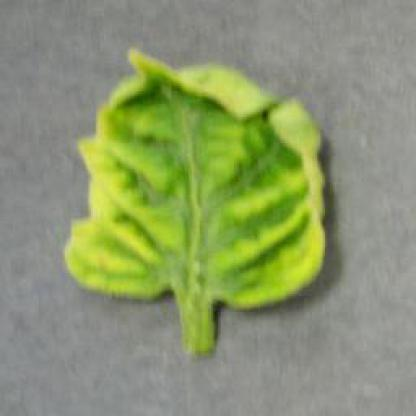bad leaf: (74, 40, 346, 367)
